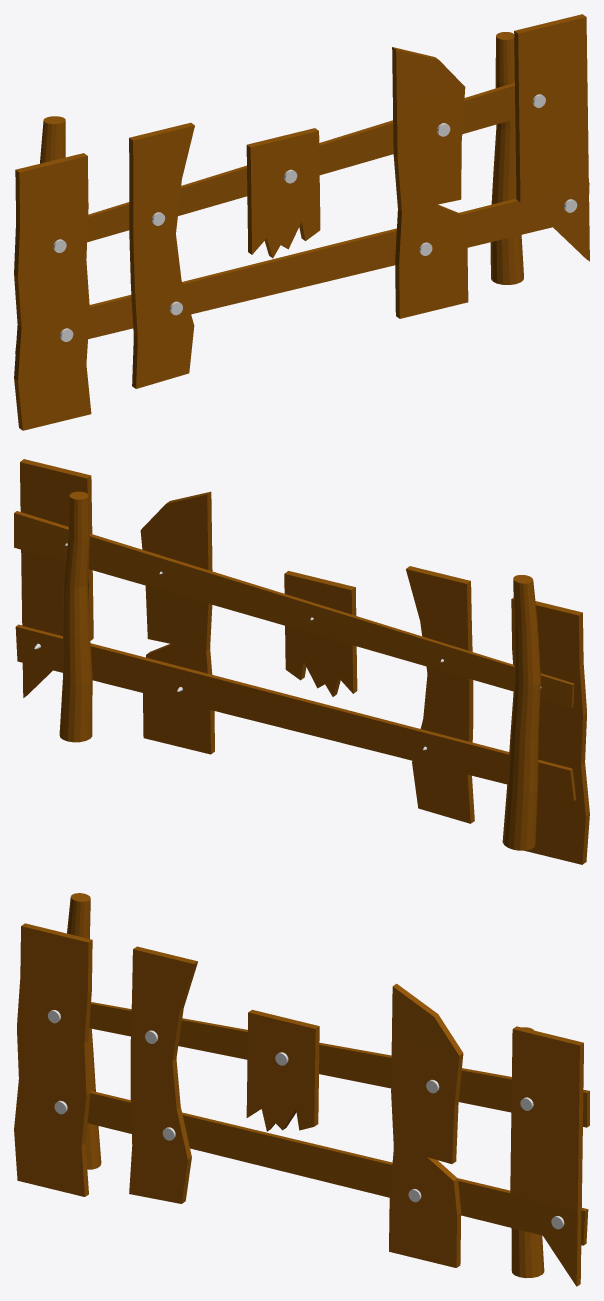
File: Pager Kayu 2.glb
The picture shows the model from 3 angles, top to bottom: view 1: azimuth 30°, elevation 25°; view 2: azimuth 150°, elevation 25°; view 3: azimuth 330°, elevation 25°; orthographic projection.
Visible parts, largest first — view 1: Cylinder.001; view 2: Cylinder.001; view 3: Cylinder.001.
Part boxes in pixels (x1,y1,x2,y2): Cylinder.001: (14, 14, 589, 430); Cylinder.001: (14, 459, 589, 864); Cylinder.001: (14, 893, 589, 1286).
Size of the model in its own units: 6.09 by 2.9 by 0.4756.
